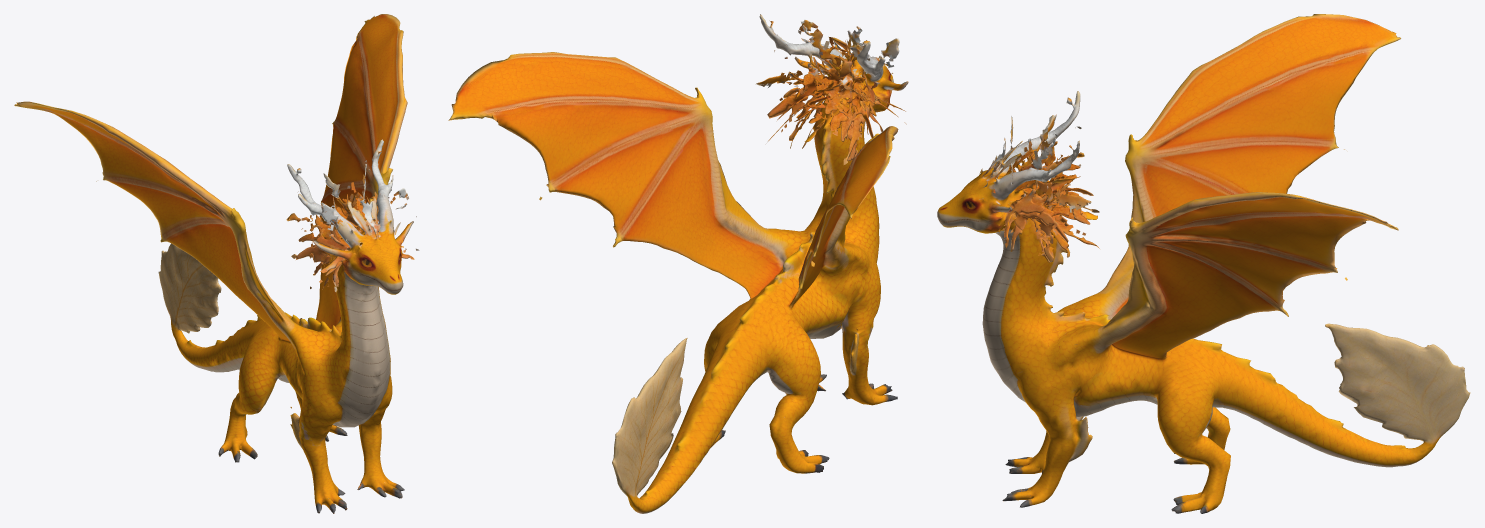
File: sand_beyonder.glb
3 renders of one model, left to right at view 1: azimuth 30°, elevation 25°; view 2: azimuth 150°, elevation 25°; view 3: azimuth 270°, elevation 25°, orthographic. The views are drawn at different scales.
Bounding box in the file's own units: 1.72 × 1.57 × 2.
1 material, 1 textured.
